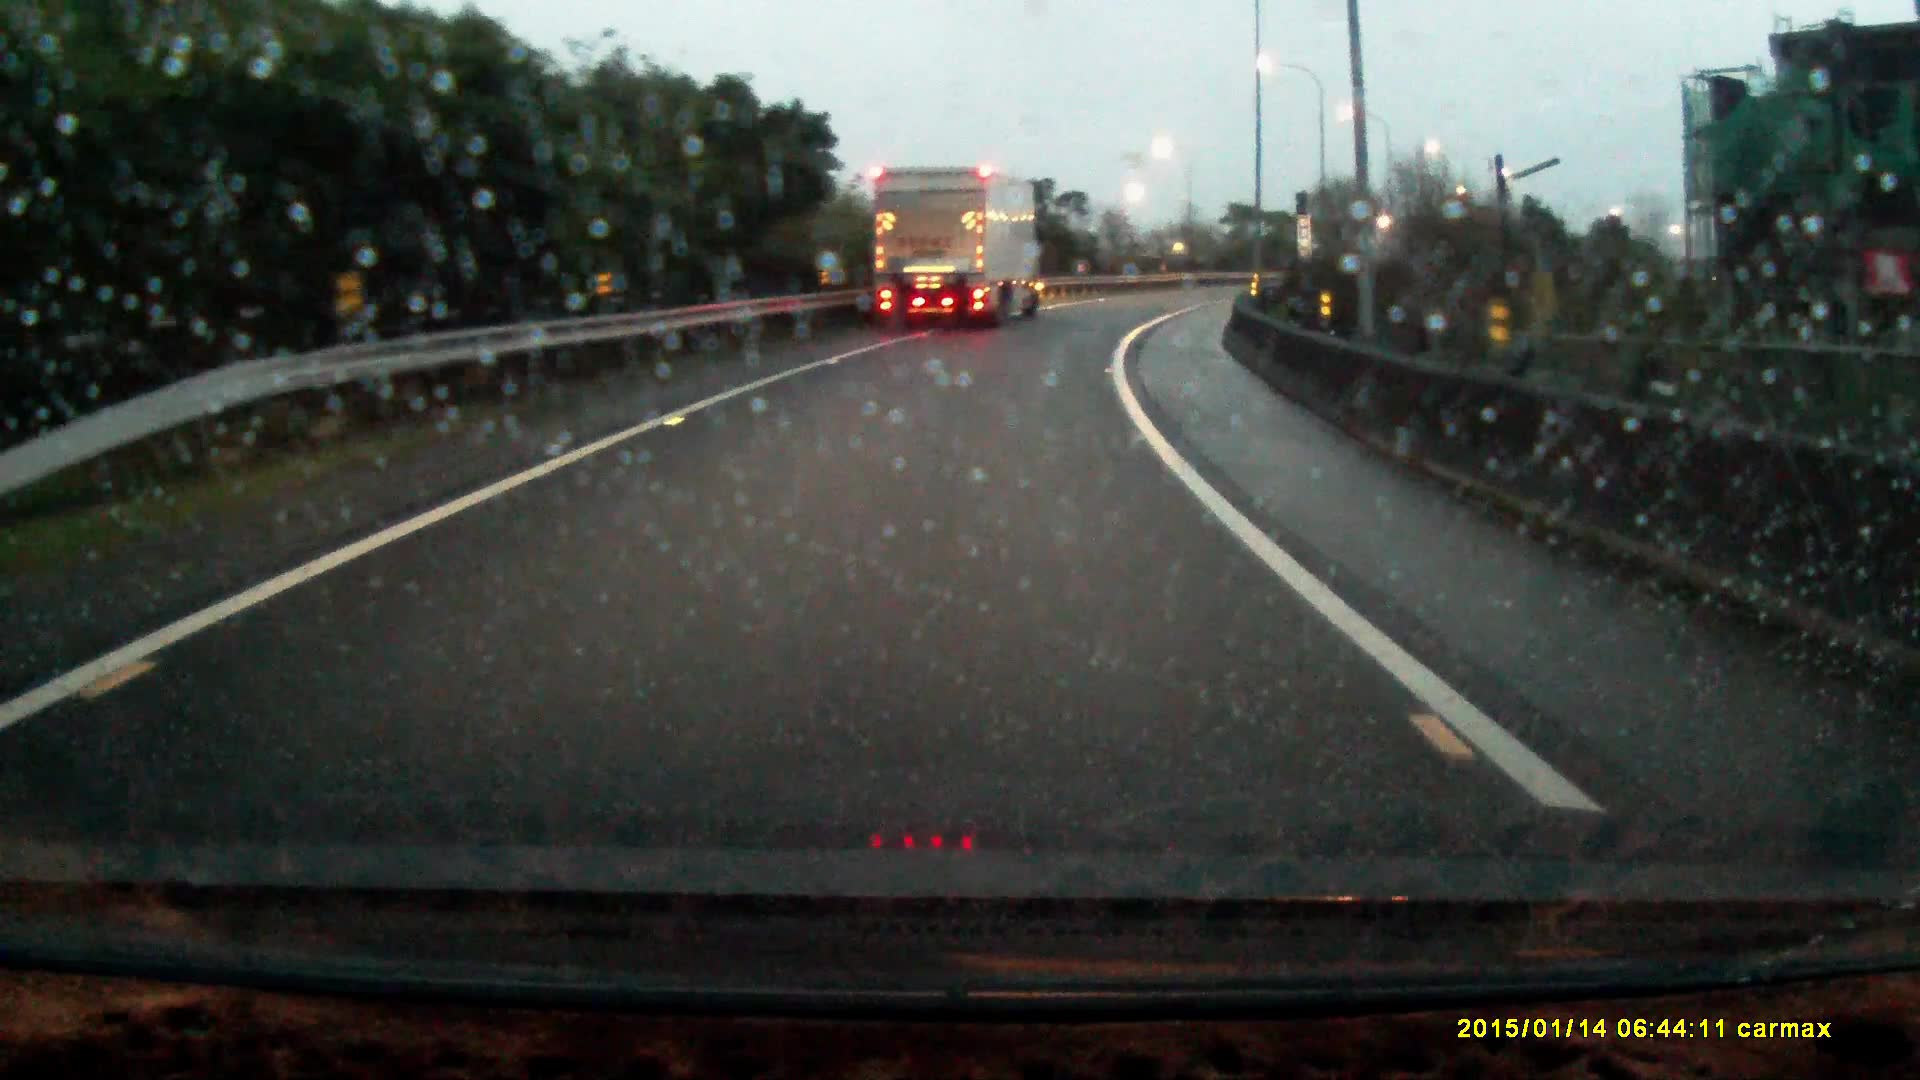vehicle: (876, 167, 1040, 328)
